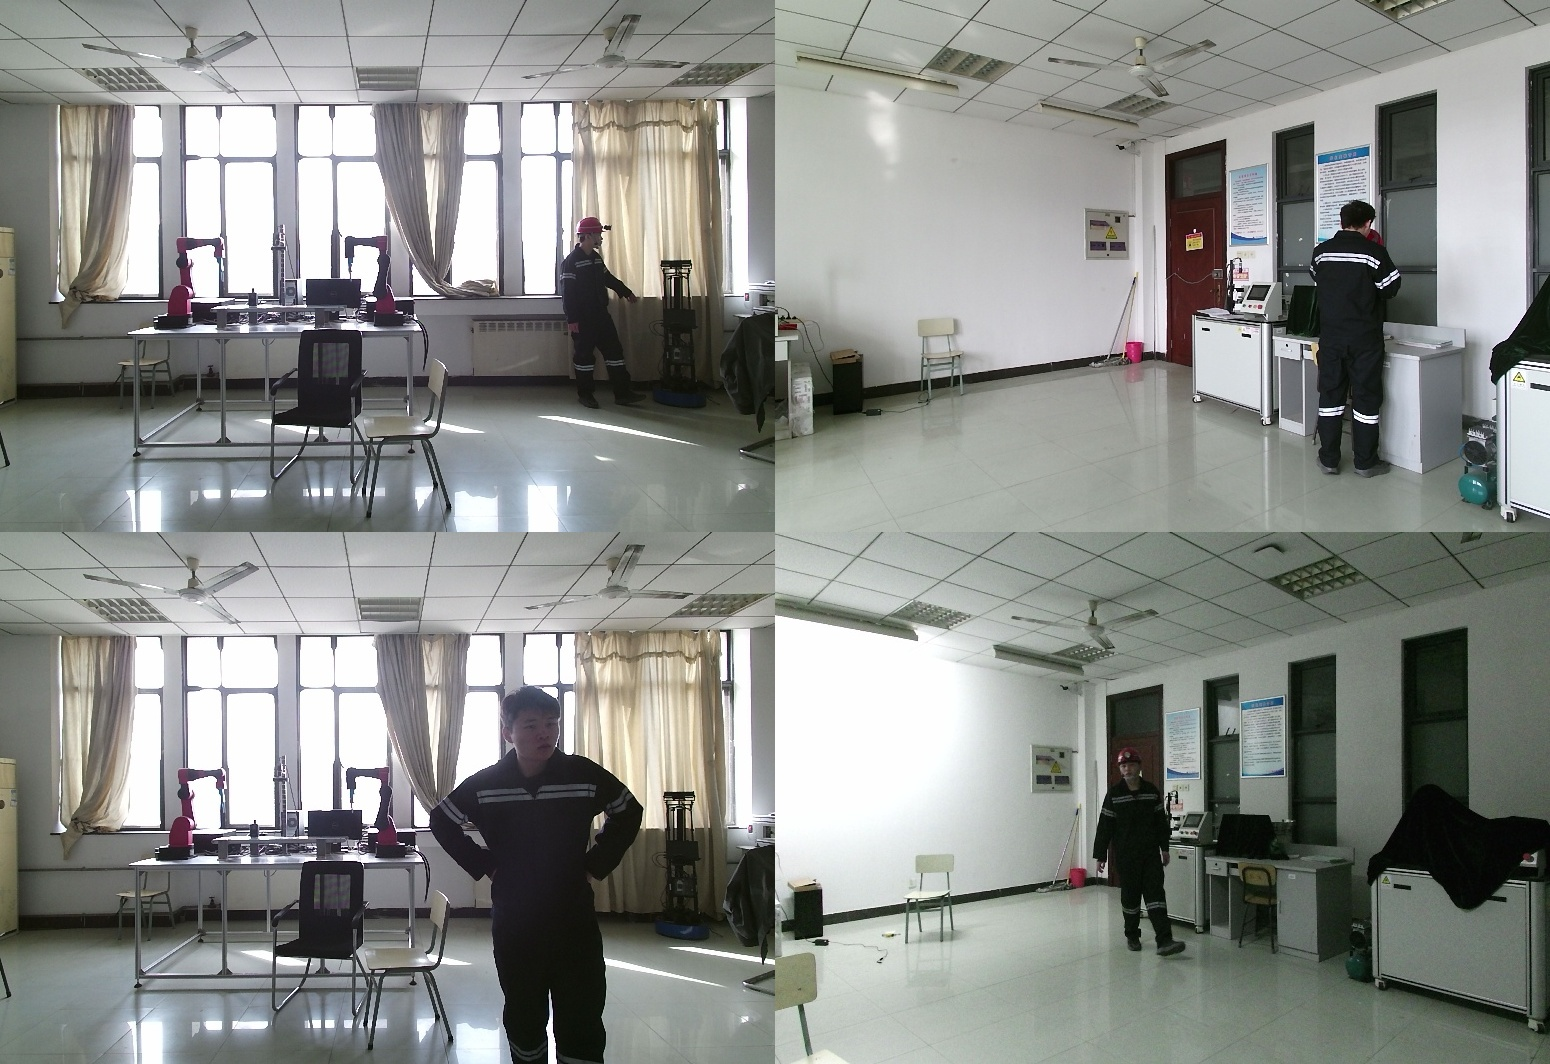person: (437, 684, 674, 1064), (1305, 203, 1426, 474), (1095, 749, 1191, 958), (559, 218, 652, 419)
